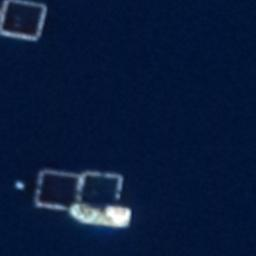square_solid: (29, 162, 86, 216), (76, 167, 129, 222), (1, 1, 50, 46)
